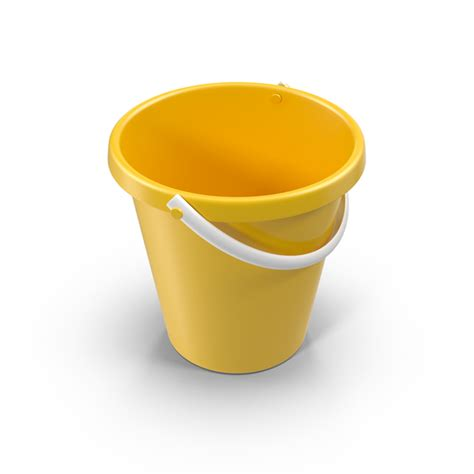???: (106, 81, 366, 374)
